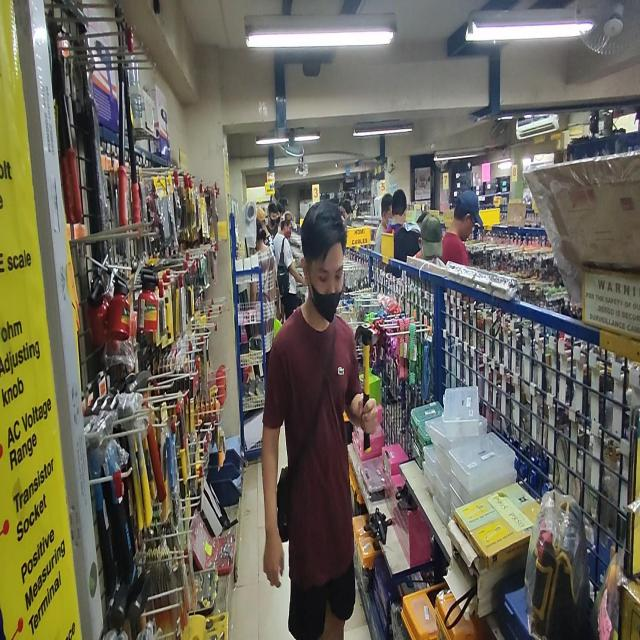hammer: (354, 323, 379, 453)
